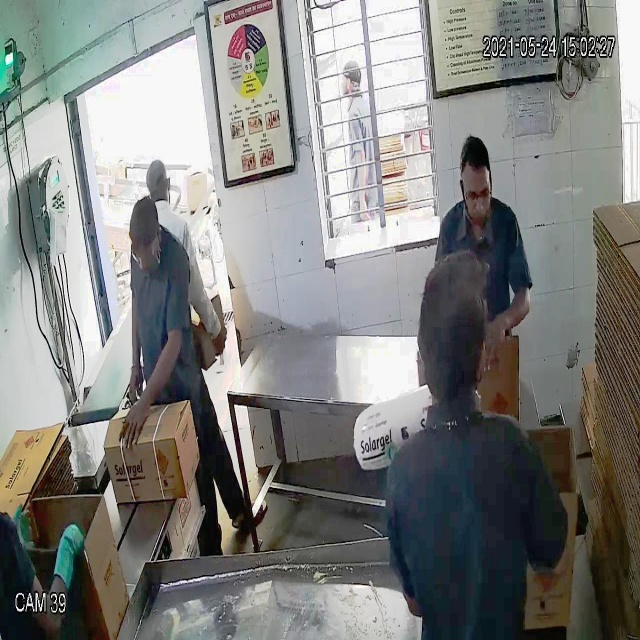Gafas: (461, 176, 497, 215), (127, 240, 160, 270)
